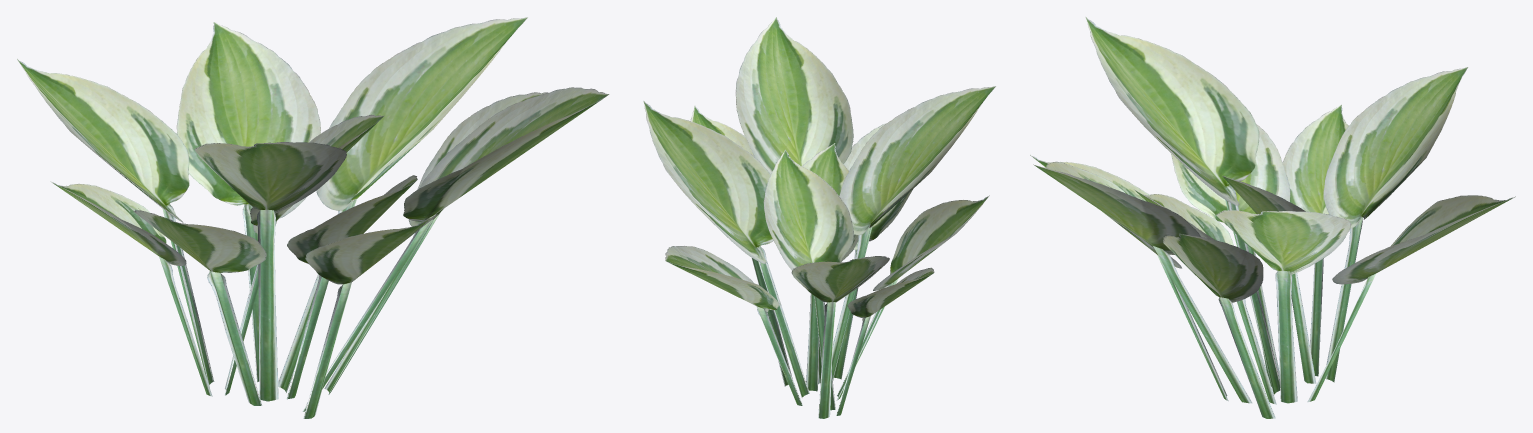
The model's file is plant_small_wg_02N.fbx.
3 views of the same model, side by side, from view 1: azimuth 30°, elevation 25°; view 2: azimuth 150°, elevation 25°; view 3: azimuth 270°, elevation 25° (orthographic). The views are drawn at different scales.
Visible parts, largest first — view 1: plant_small_wg_02N; view 2: plant_small_wg_02N; view 3: plant_small_wg_02N.
Boxes of the visible parts, x1,y1,x2,y2 form: plant_small_wg_02N: (17,17,609,418); plant_small_wg_02N: (643,17,995,418); plant_small_wg_02N: (1030,17,1515,418).
Bounding box in the file's own units: 67.24 × 54.14 × 73.53.
